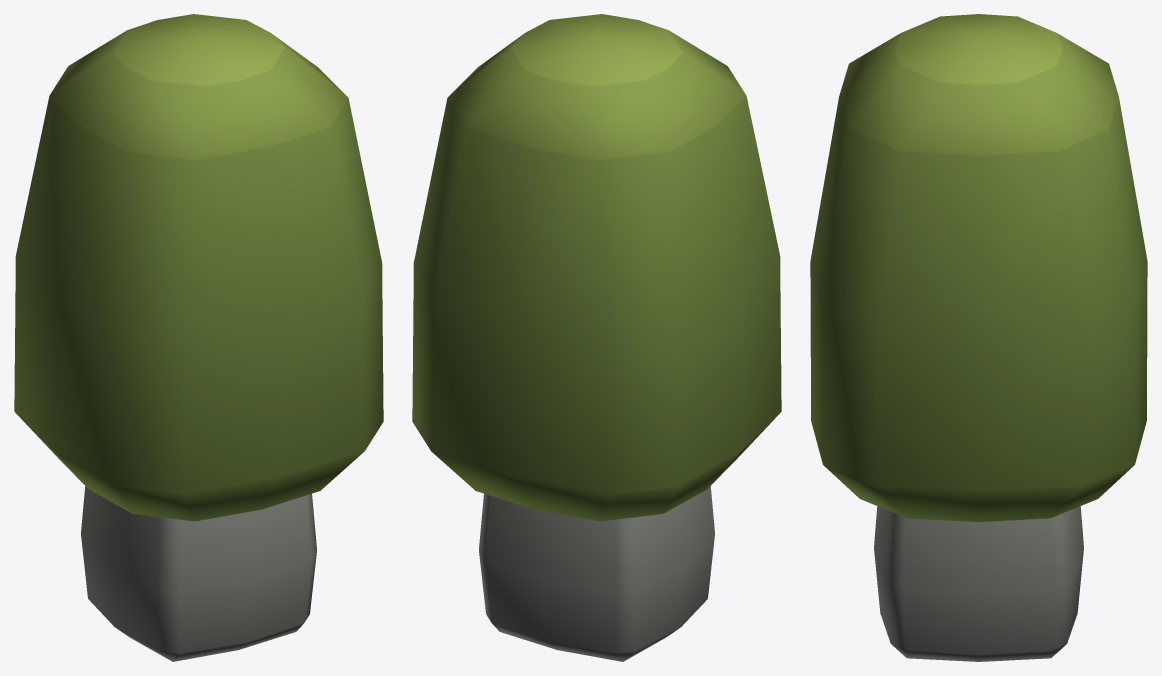
Rendered from bush_plant_big_tall_pot.fbx.
3 renders of one model, left to right at view 1: azimuth 30°, elevation 25°; view 2: azimuth 150°, elevation 25°; view 3: azimuth 270°, elevation 25°, orthographic.
Visible parts, largest first — view 1: bush_plant_big_tall_pot; view 2: bush_plant_big_tall_pot; view 3: bush_plant_big_tall_pot.
Part boxes in pixels (left/top/right/bottom): bush_plant_big_tall_pot: left=14, top=14, right=383, bottom=661; bush_plant_big_tall_pot: left=412, top=14, right=781, bottom=661; bush_plant_big_tall_pot: left=810, top=14, right=1147, bottom=661.
Size of the model in its own units: 95.56 by 185 by 95.56.
